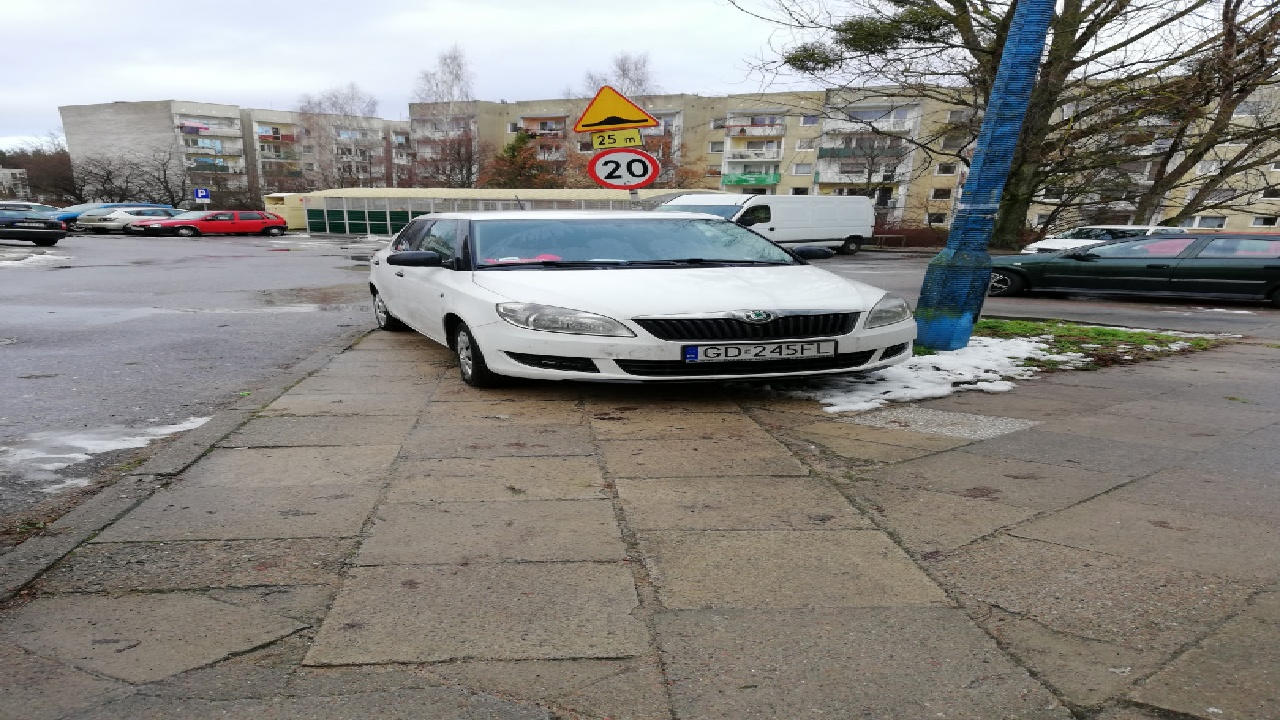A11a: (574, 86, 660, 127)
B33_20: (588, 148, 661, 189)
